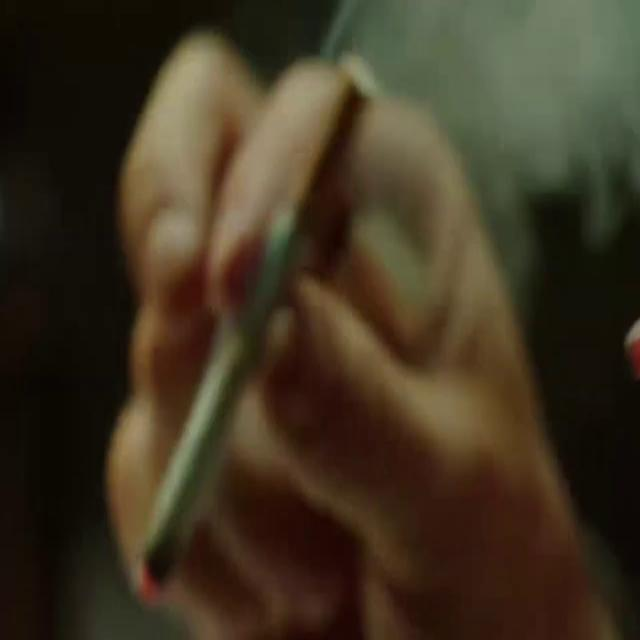Smooking: (98, 57, 458, 604)
